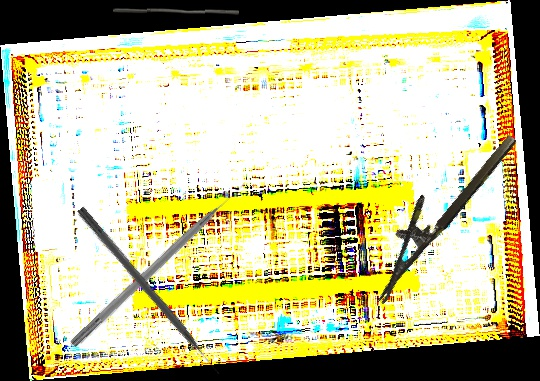Needle Holder: (351, 116, 520, 305)
Pusher: (68, 180, 250, 351), (74, 205, 223, 379), (112, 5, 240, 18)
